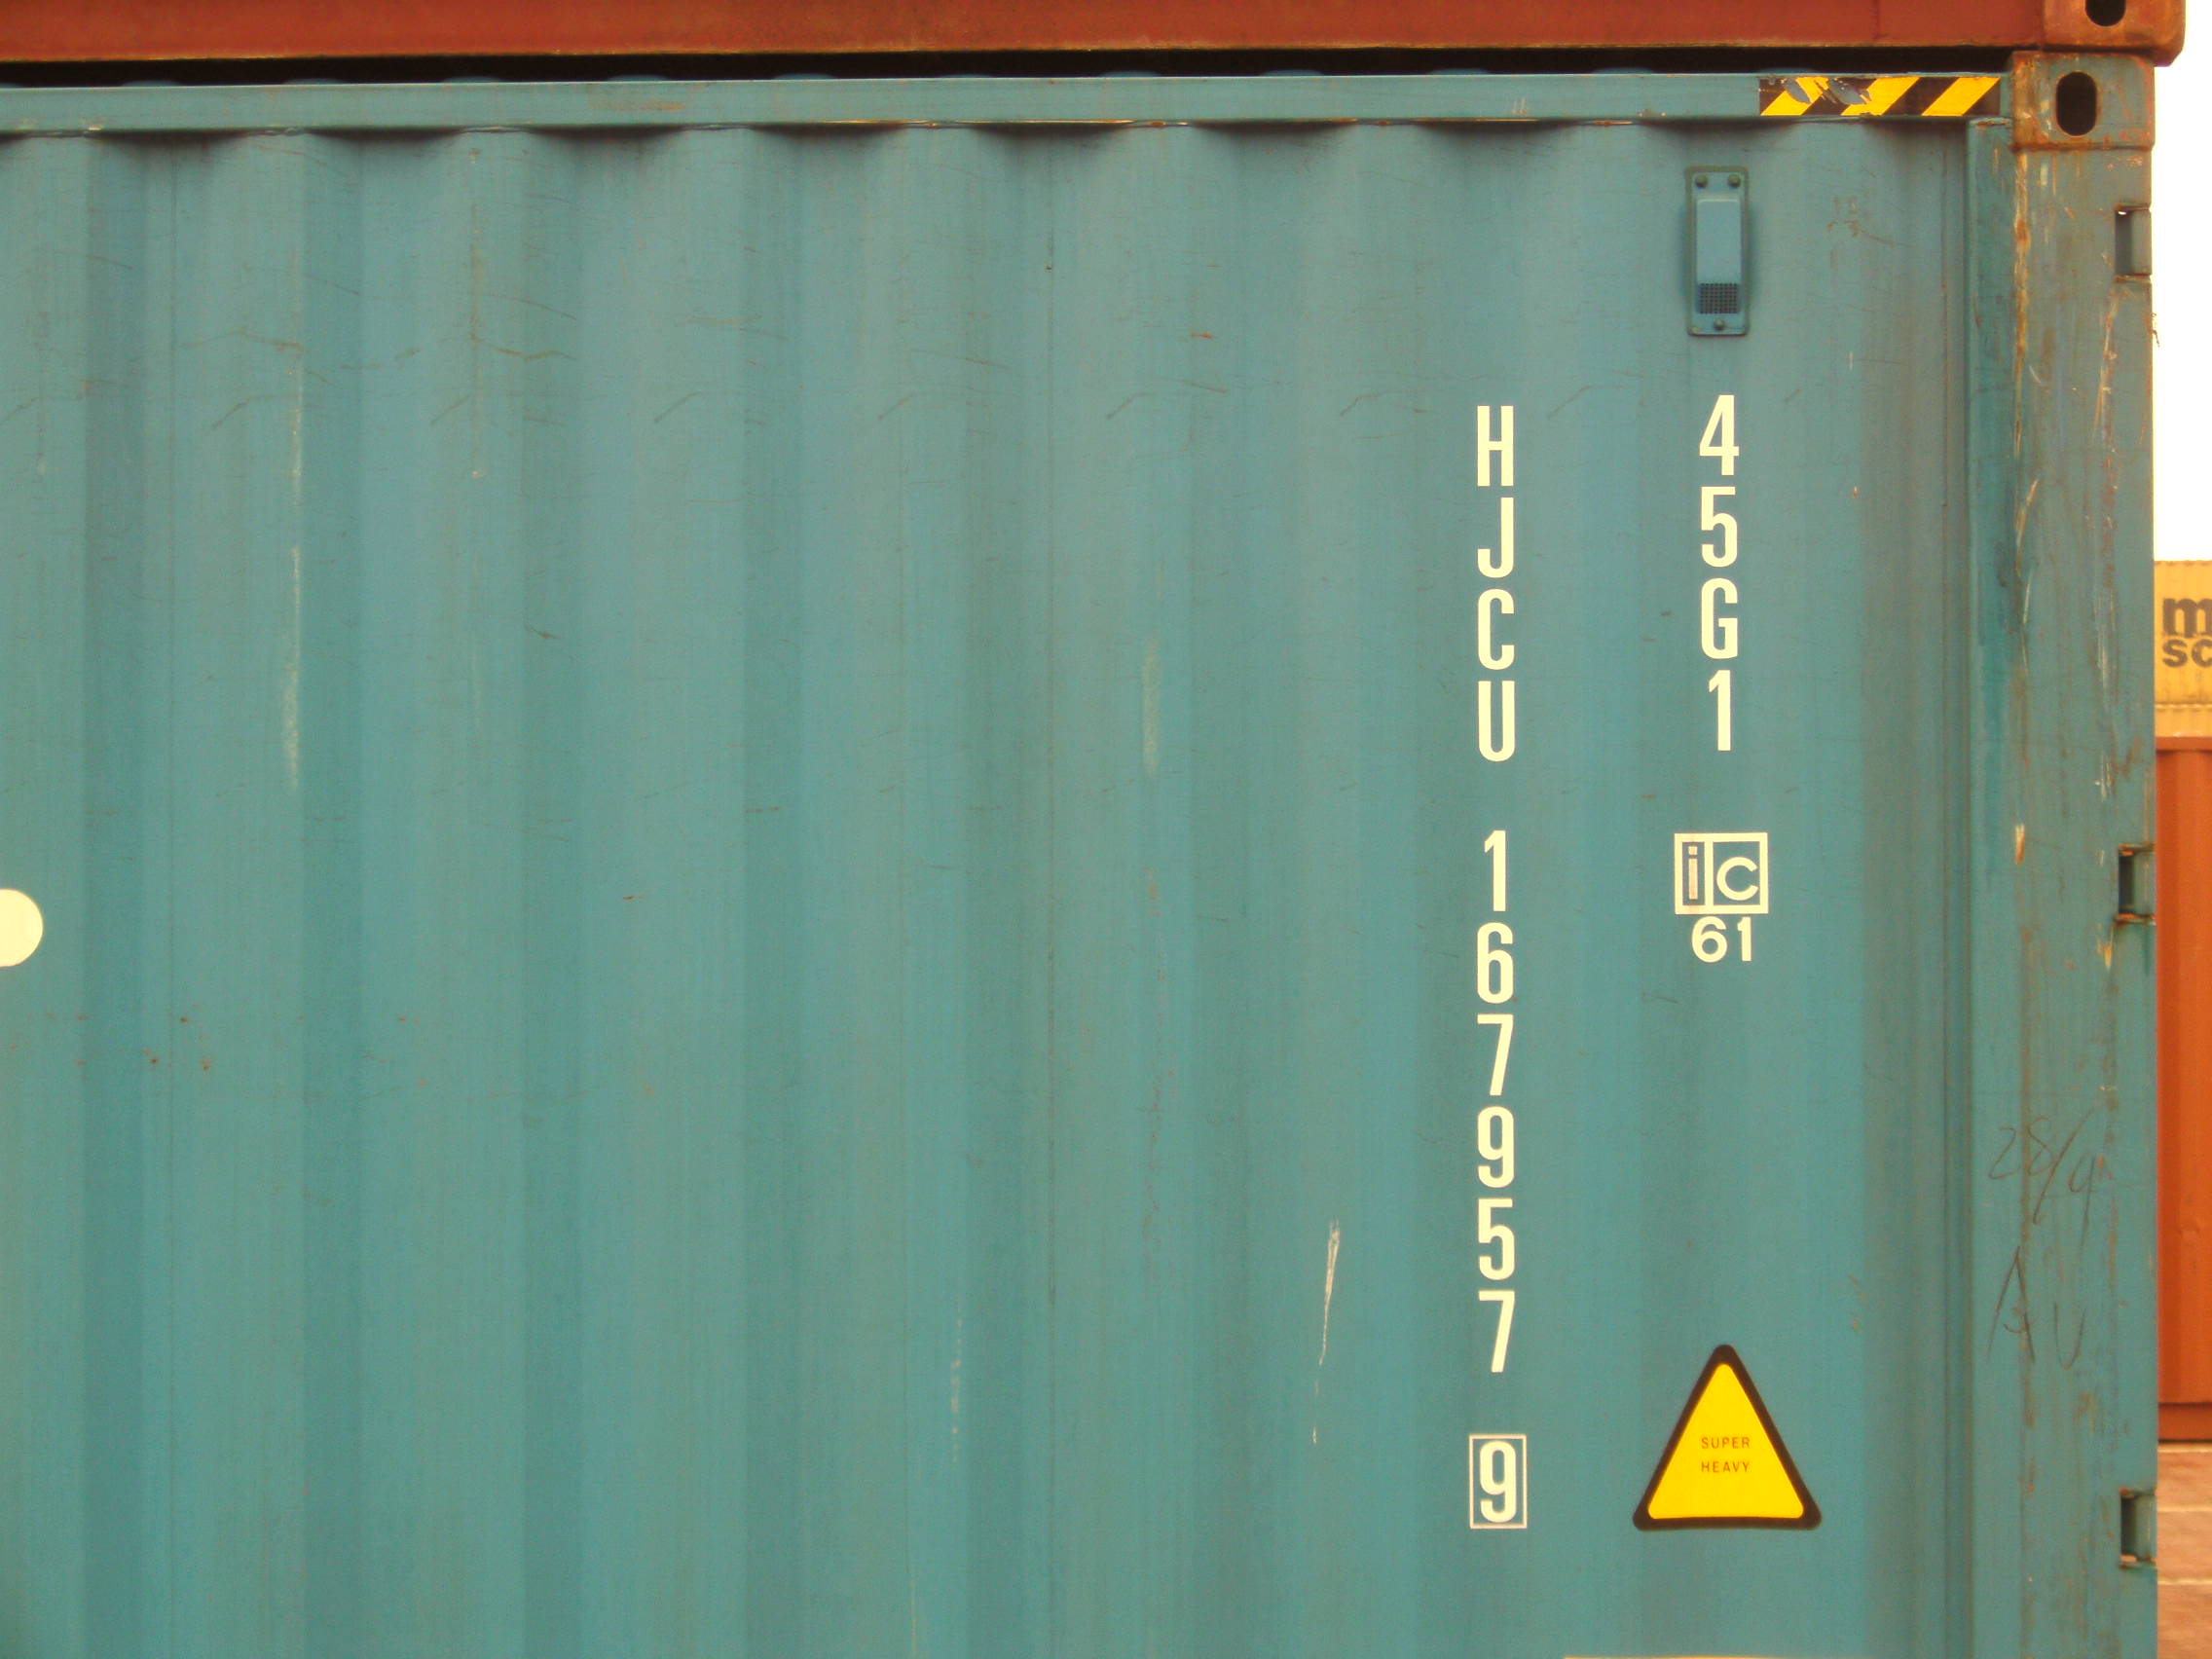container_no_door: (94, 148, 1947, 1657)
